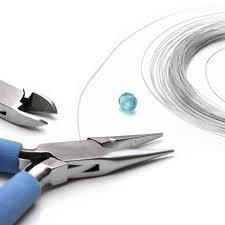pliers: (0, 131, 173, 224), (0, 78, 57, 128)
